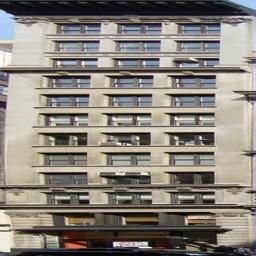building: (9, 0, 256, 256)
